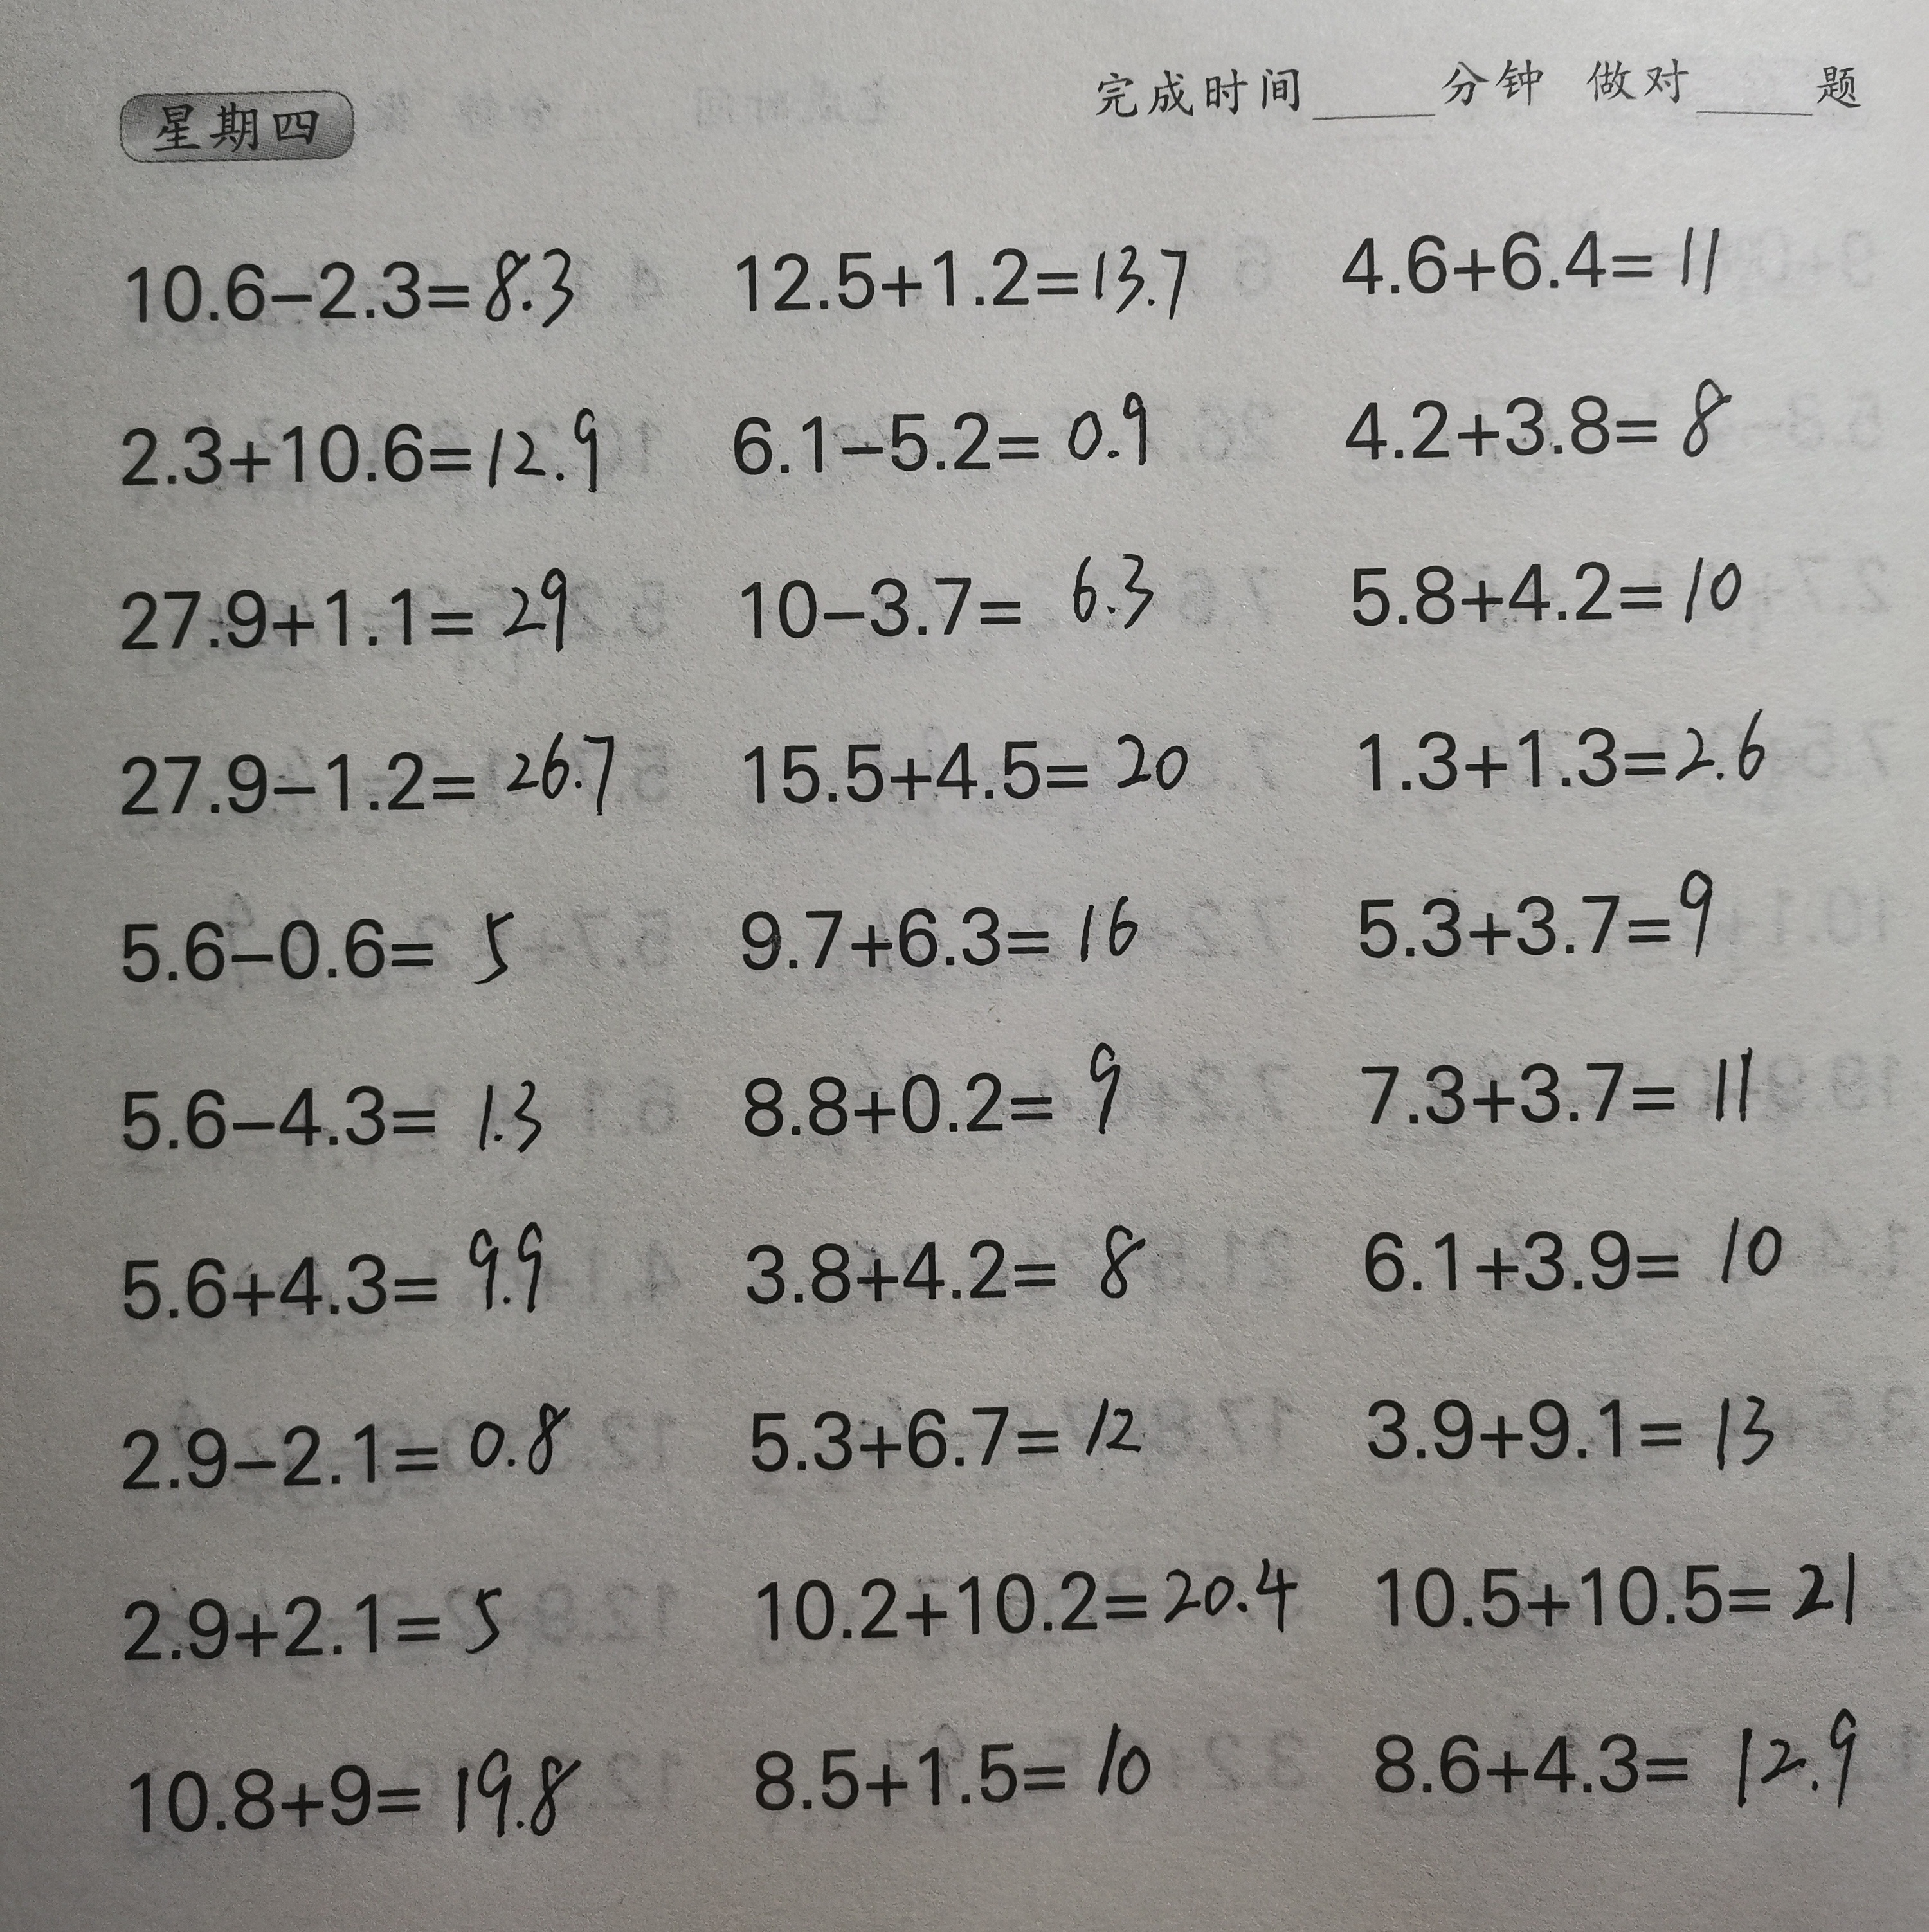equation: (1350, 1685, 1899, 1824), (97, 383, 615, 521), (104, 1374, 585, 1519), (737, 1540, 1328, 1655), (714, 694, 1222, 825), (113, 1732, 601, 1868), (1369, 1522, 1888, 1648), (111, 214, 585, 346), (730, 1363, 1185, 1499), (730, 1192, 1191, 1324), (724, 1697, 1189, 1828), (714, 862, 1171, 992), (99, 717, 636, 828), (94, 551, 590, 671), (708, 374, 1198, 494), (1350, 1355, 1816, 1480), (104, 1213, 560, 1340), (715, 530, 1175, 650), (724, 1024, 1164, 1150), (1330, 525, 1777, 646), (1350, 1192, 1819, 1305), (724, 215, 1199, 327), (1321, 185, 1731, 314), (1327, 839, 1735, 968), (1337, 703, 1784, 818), (1344, 1024, 1768, 1144), (104, 1565, 542, 1679), (1339, 364, 1745, 487), (99, 888, 533, 1003), (104, 1067, 553, 1173)
